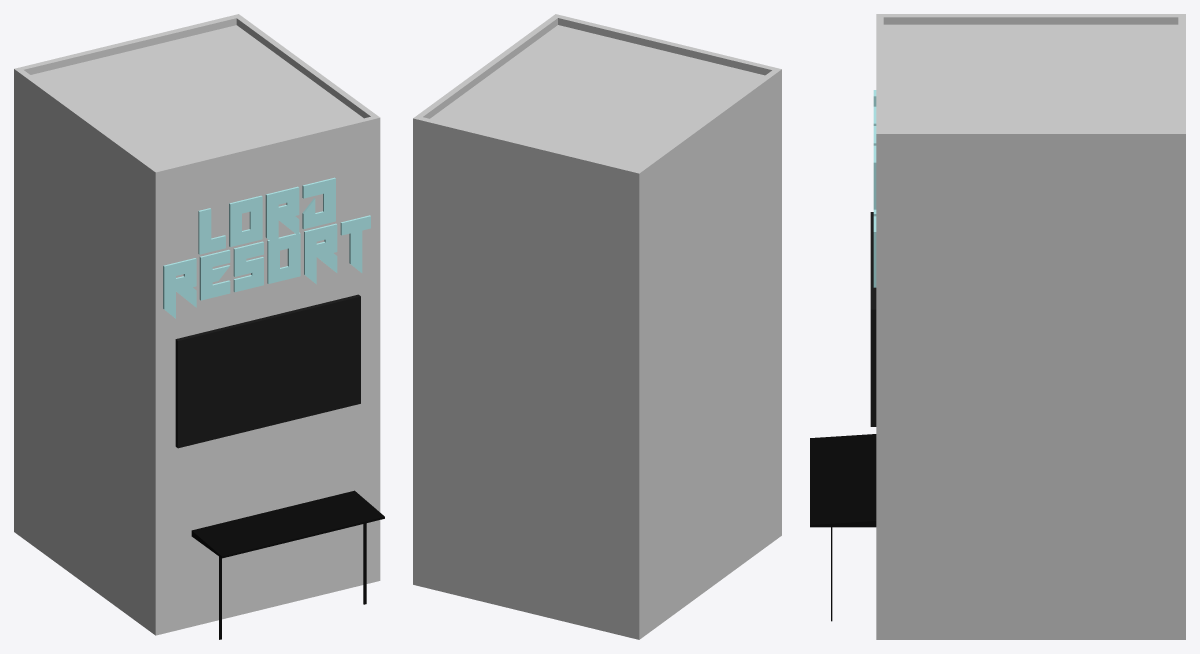
The model's file is Edificio-LordResort.FBX.
The picture shows the model from 3 angles, left to right: view 1: azimuth 30°, elevation 25°; view 2: azimuth 150°, elevation 25°; view 3: azimuth 270°, elevation 25°; orthographic projection. The views are drawn at different scales.
Parts seen in each view (by area): view 1: Edificio_002, PosaBanderas, CARTEL 2, Soportal; view 2: Edificio_002; view 3: Edificio_002, Soportal, PosaBanderas, CARTEL 2.
Boxes of the visible parts, x1=… form: Edificio_002: x1=14, y1=14, x2=380, y2=635; PosaBanderas: x1=175, y1=294, x2=360, y2=448; CARTEL 2: x1=163, y1=177, x2=370, y2=318; Soportal: x1=191, y1=490, x2=384, y2=558; Edificio_002: x1=413, y1=14, x2=781, y2=639; Edificio_002: x1=876, y1=14, x2=1185, y2=639; Soportal: x1=810, y1=434, x2=876, y2=527; PosaBanderas: x1=870, y1=212, x2=876, y2=426; CARTEL 2: x1=873, y1=90, x2=876, y2=287.
Size of the model in its own units: 23.02 by 45.33 by 30.49.
